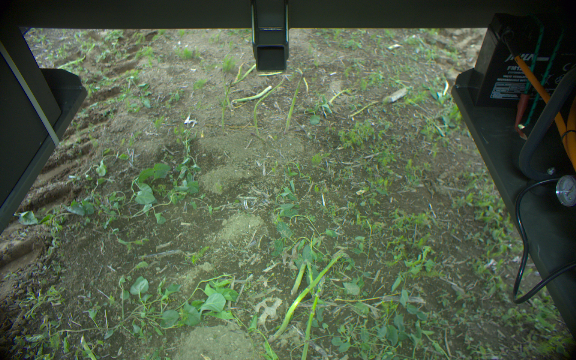aspa: (265, 255, 343, 339), (254, 73, 285, 130), (302, 284, 322, 360), (285, 71, 306, 134), (217, 77, 233, 124), (291, 261, 308, 296)
